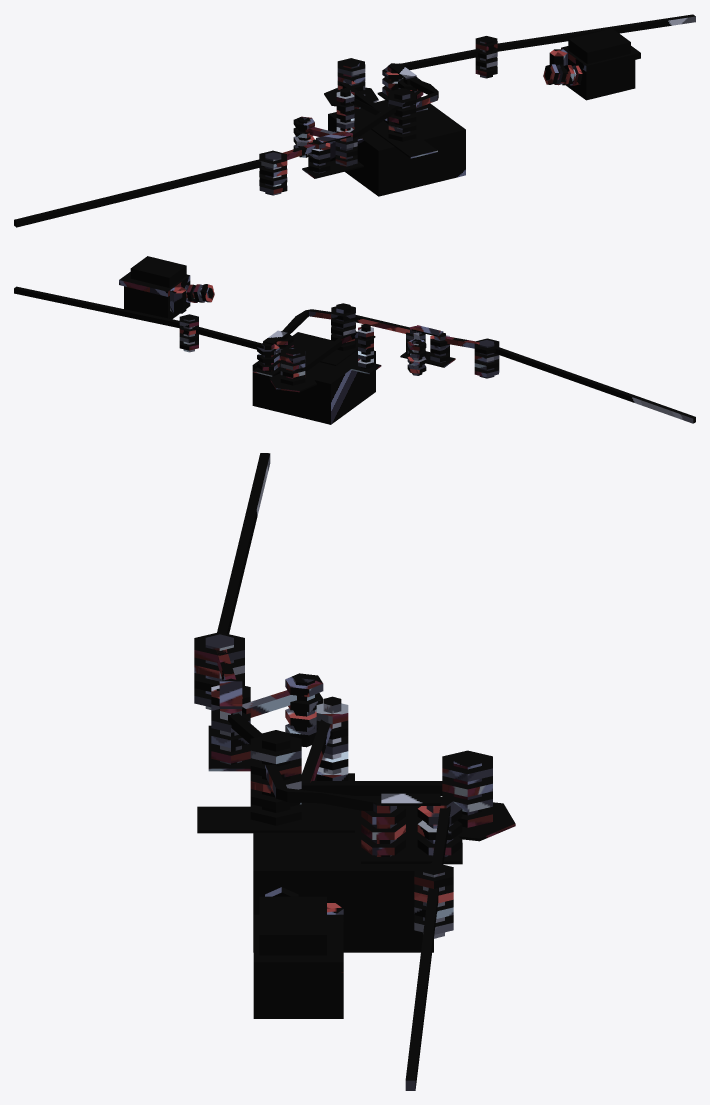
File: ss8_roof.obj
3 renders of one model, top to bottom at view 1: azimuth 30°, elevation 25°; view 2: azimuth 150°, elevation 25°; view 3: azimuth 270°, elevation 25°, orthographic. The views are drawn at different scales.
Parts seen in each view (by area): view 1: cube; view 2: cube; view 3: cube.
Boxes of the visible parts, left/top/right/bottom form: cube: left=14, top=14, right=695, bottom=227; cube: left=14, top=256, right=695, bottom=424; cube: left=194, top=453, right=515, bottom=1090.
Bounding box in the file's own units: 8.24 × 1.01 × 1.78.
